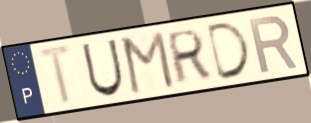D: (205, 19, 254, 83)
M: (120, 28, 177, 96)
R: (246, 13, 300, 76), (166, 26, 213, 87)
T: (36, 42, 77, 108)
U: (79, 37, 126, 99)
